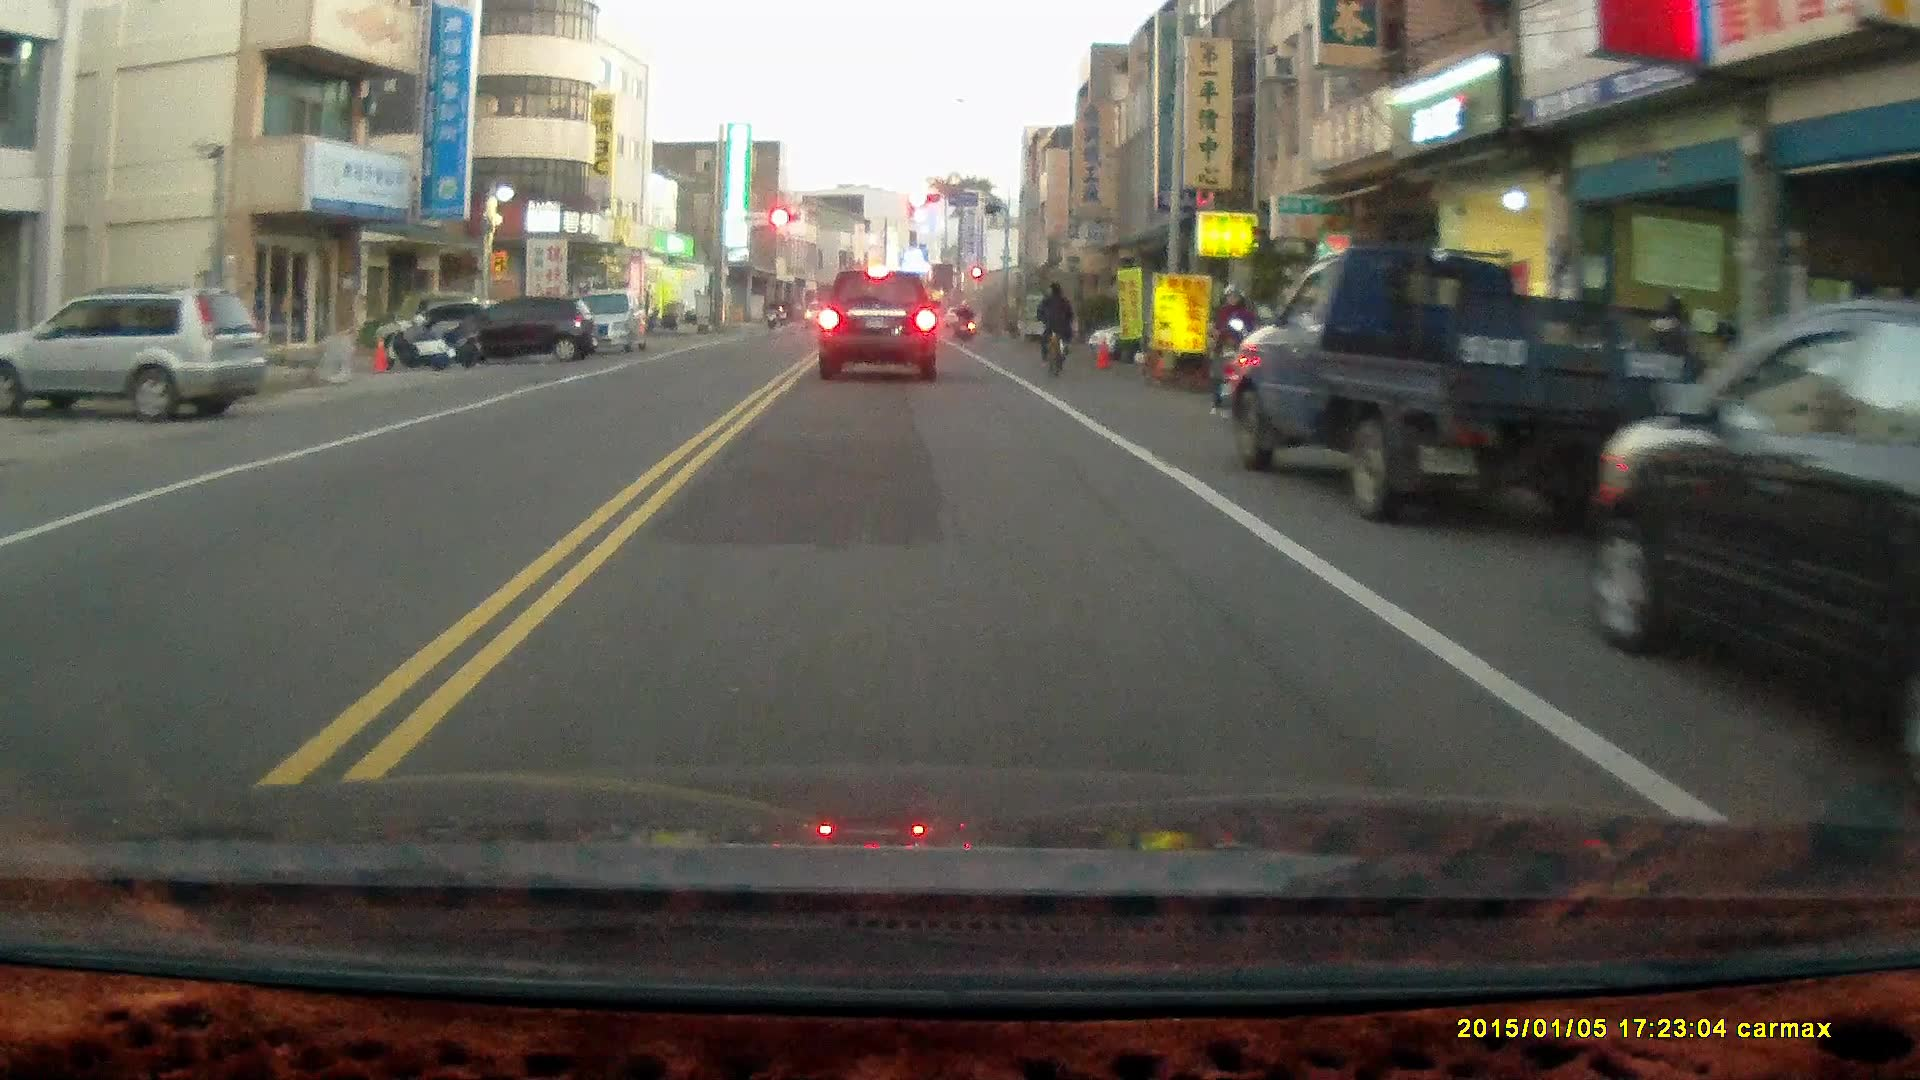pedestrian: (1206, 282, 1251, 417)
rider: (1035, 282, 1074, 382)
vehicle: (1595, 302, 1920, 732), (1214, 244, 1707, 528), (2, 281, 272, 417), (818, 272, 943, 378), (443, 295, 604, 360), (548, 288, 652, 355)
